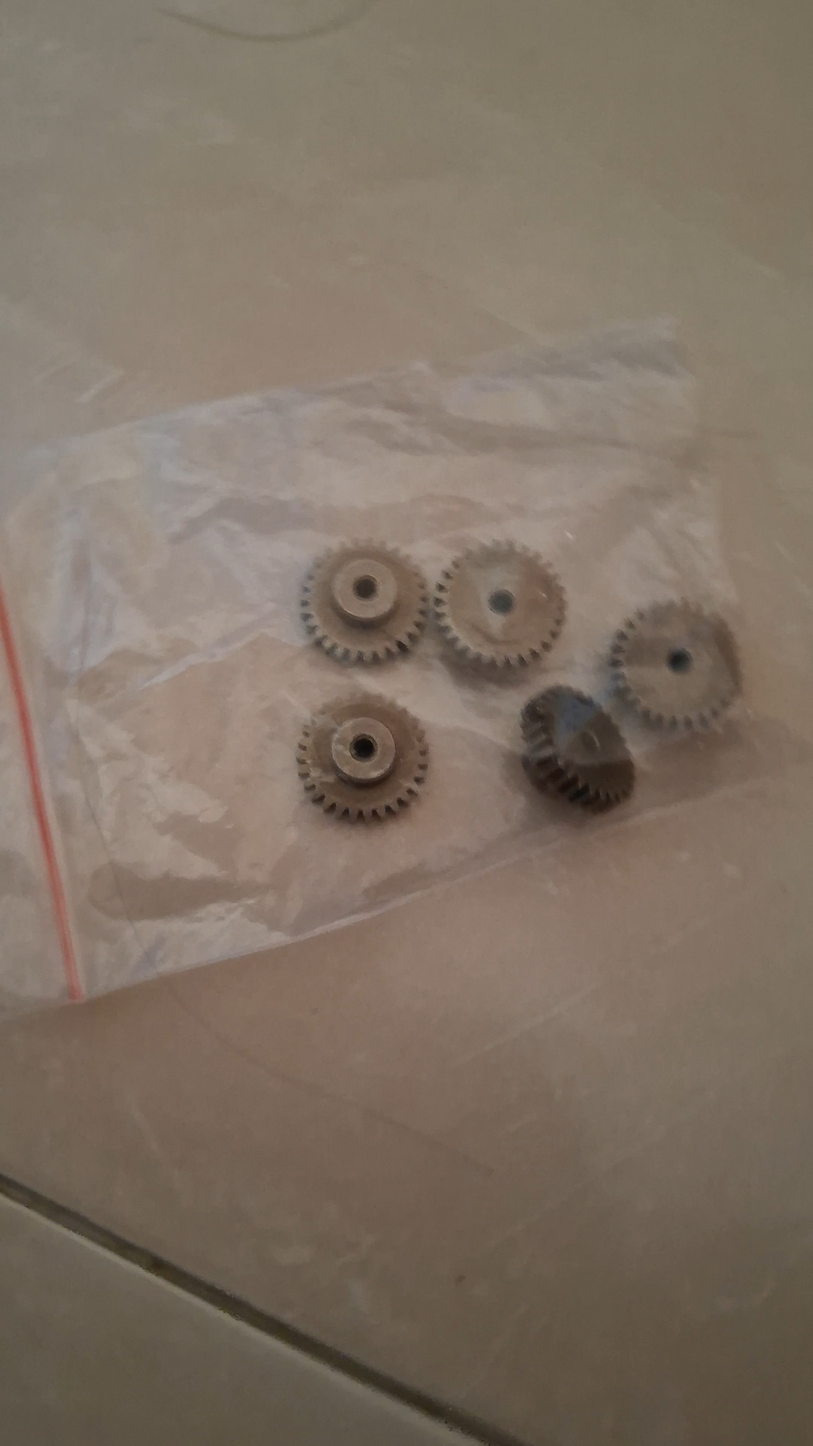spur gear: (611, 600, 741, 729), (434, 542, 566, 669), (298, 694, 428, 820), (301, 542, 428, 663), (521, 686, 634, 812)
